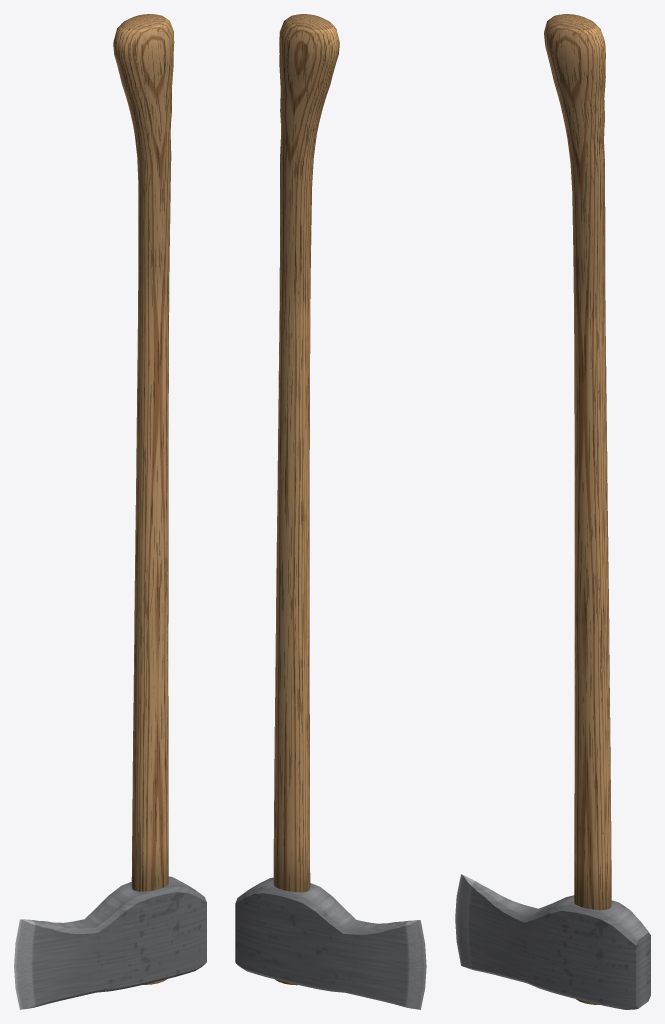
File: axe.gltf
The picture shows the model from 3 angles, left to right: view 1: azimuth 30°, elevation 25°; view 2: azimuth 150°, elevation 25°; view 3: azimuth 330°, elevation 25°; orthographic projection. The views are drawn at different scales.
Visible parts, largest first — view 1: Mesh; view 2: Mesh; view 3: Mesh.
Boxes of the visible parts, box(x1,y1,x2,y2) form: Mesh: box(14, 14, 206, 1009); Mesh: box(235, 14, 426, 1009); Mesh: box(455, 14, 650, 1009).
Size of the model in its own units: 0.221 by 1.1 by 0.0514.
1 material, 1 textured.
